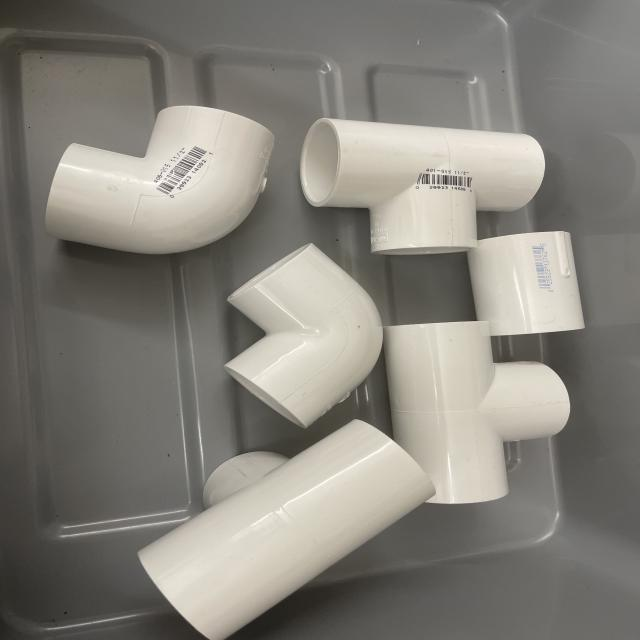L Joint: (45, 107, 272, 256), (224, 246, 384, 430)
T Joint: (136, 419, 436, 639), (384, 321, 569, 506), (299, 118, 545, 255)
